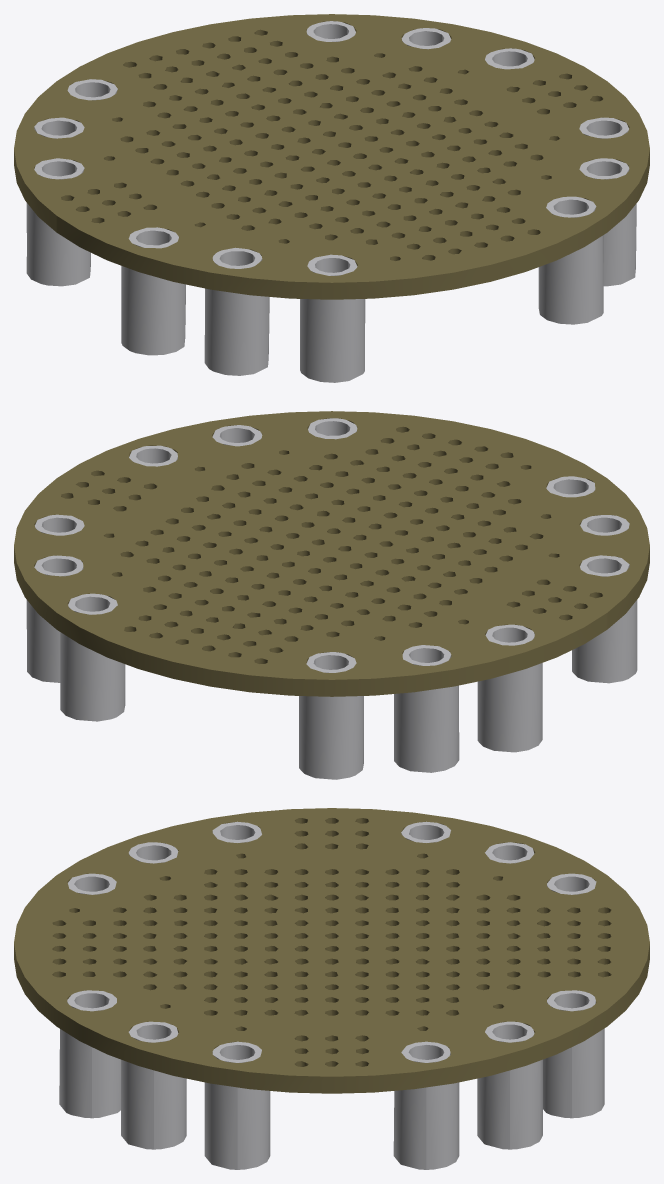
Rendered from ada-4320.glb.
3 views of the same model, one above another, from view 1: azimuth 30°, elevation 25°; view 2: azimuth 150°, elevation 25°; view 3: azimuth 270°, elevation 25° (orthographic).
Parts seen in each view (by area): view 1: 0.16666666666666666_0.16666666666666666_0.08333333333333333_, 0.5833333333333334_0.5833333333333334_0.5833333333333334_0.8; view 2: 0.16666666666666666_0.16666666666666666_0.08333333333333333_, 0.5833333333333334_0.5833333333333334_0.5833333333333334_0.8; view 3: 0.16666666666666666_0.16666666666666666_0.08333333333333333_, 0.5833333333333334_0.5833333333333334_0.5833333333333334_0.8.
Boxes of the visible parts, bbox=[...] form: 0.16666666666666666_0.16666666666666666_0.08333333333333333_: bbox=[14, 14, 649, 299]; 0.5833333333333334_0.5833333333333334_0.5833333333333334_0.8: bbox=[26, 21, 636, 382]; 0.16666666666666666_0.16666666666666666_0.08333333333333333_: bbox=[14, 411, 649, 696]; 0.5833333333333334_0.5833333333333334_0.5833333333333334_0.8: bbox=[26, 418, 637, 779]; 0.16666666666666666_0.16666666666666666_0.08333333333333333_: bbox=[14, 808, 649, 1093]; 0.5833333333333334_0.5833333333333334_0.5833333333333334_0.8: bbox=[59, 821, 604, 1169].
Size of the model in its own units: 5.33 by 0.9598 by 5.33.
